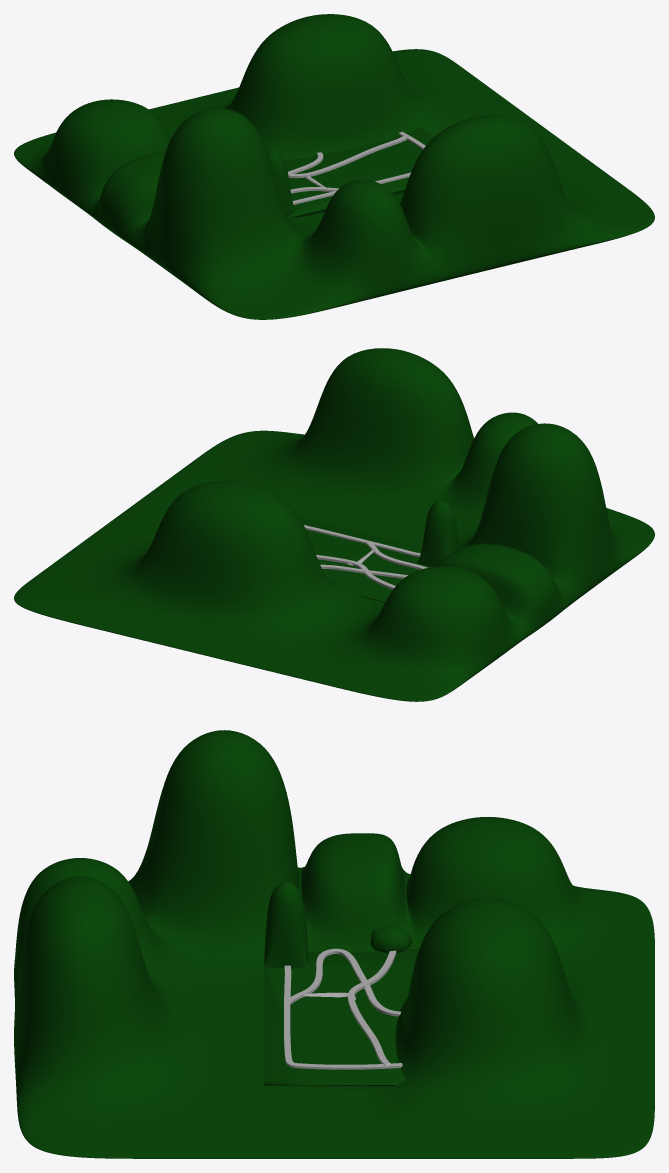
The model's file is Level2.fbx.
The picture shows the model from 3 angles, top to bottom: view 1: azimuth 30°, elevation 25°; view 2: azimuth 150°, elevation 25°; view 3: azimuth 270°, elevation 25°; orthographic projection. The views are drawn at different scales.
Visible parts, largest first — view 1: pCube6, pCube1, pCube4, pCube2; view 2: pCube6, pCube1, pCube3, pCube2; view 3: pCube6, pCube1, pCube2, pCube3, pCube4, pCube5.
Part boxes in pixels (<box>): pCube6: <box>14,14,654,319</box>; pCube1: <box>267,127,433,217</box>; pCube4: <box>288,135,409,178</box>; pCube2: <box>292,131,425,204</box>; pCube6: <box>14,348,654,701</box>; pCube1: <box>299,500,460,602</box>; pCube3: <box>320,540,427,578</box>; pCube2: <box>304,525,420,557</box>; pCube6: <box>14,730,654,1158</box>; pCube1: <box>264,882,419,1089</box>; pCube2: <box>284,965,402,1069</box>; pCube3: <box>284,948,400,1016</box>; pCube4: <box>348,950,396,1065</box>; pCube5: <box>370,925,412,952</box>.
Size of the model in its own units: 99.08 by 32.51 by 99.16.
